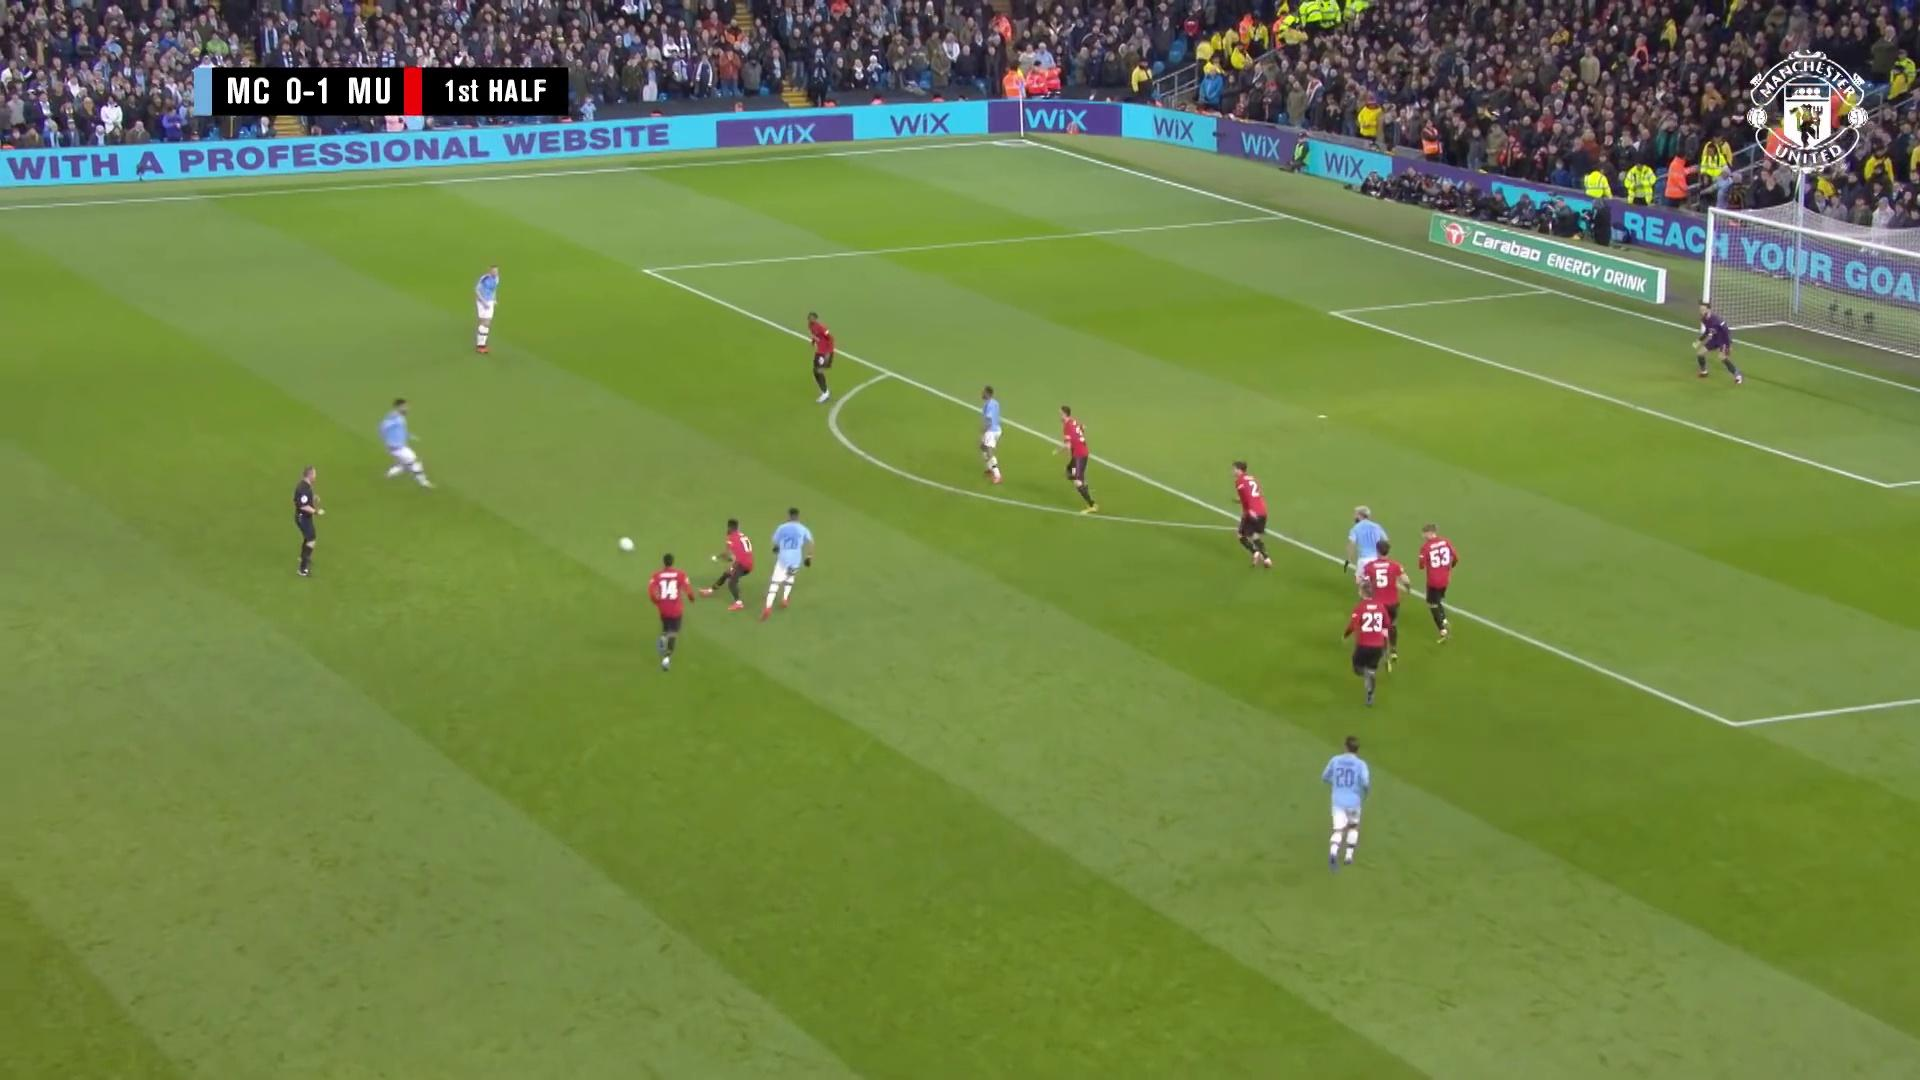ball: (615, 535, 636, 555)
